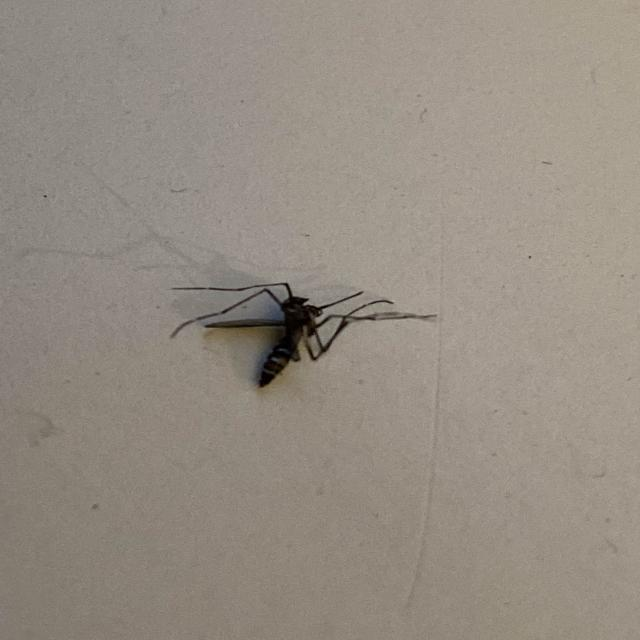albopictus: (164, 262, 435, 396)
